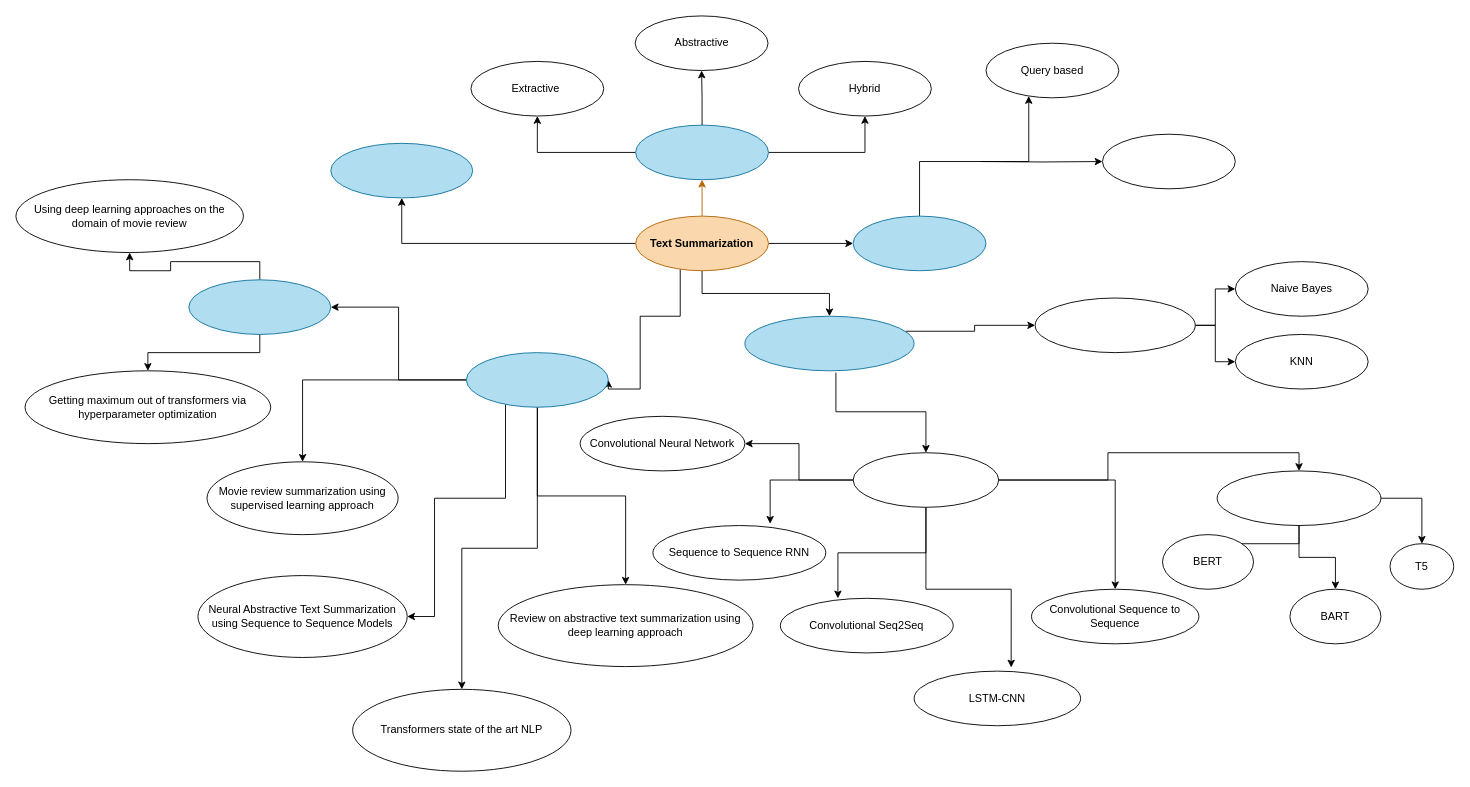
Image size: 1470x787. Some labels were removed from this diagram. Here are the shapes that lost their labels. From the top down, the centre of each, then its label:
At point (401, 170): "Evaluations".
At point (701, 152): "Summary Types".
At point (1168, 161): "Generic".
At point (919, 243): "Output type".
At point (259, 306): "Limitations".
At point (1114, 325): "Machine learning Models".
At point (829, 343): "Algorithm Approaches".
At point (536, 379): "Existing work".
At point (925, 479): "Deep learning Models".
At point (1298, 498): "Trasnformers".
